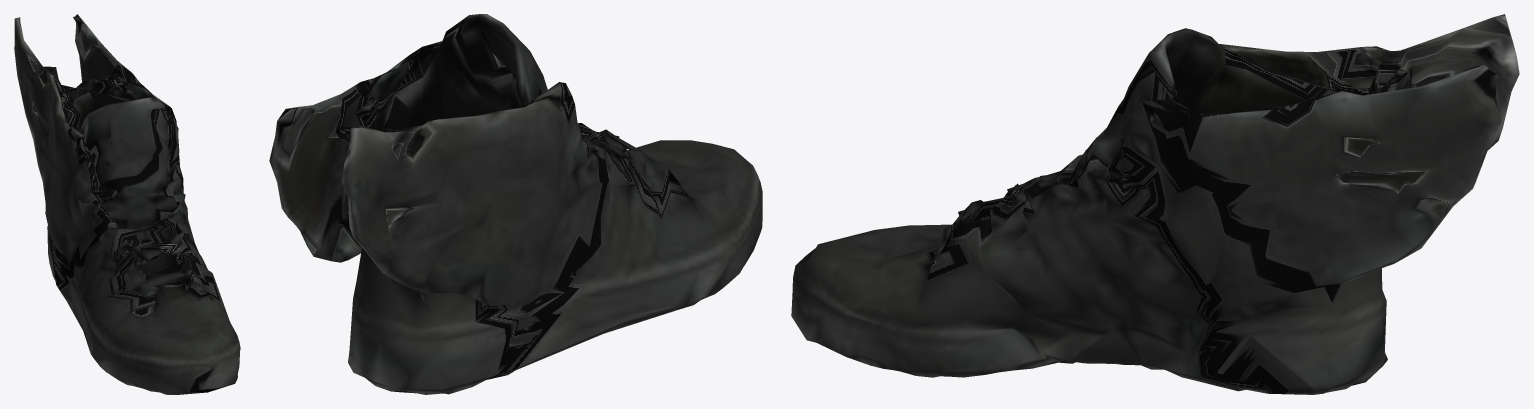
Rendered from gso_js_wings_20_black_flag.glb.
3 renders of one model, left to right at view 1: azimuth 30°, elevation 25°; view 2: azimuth 150°, elevation 25°; view 3: azimuth 270°, elevation 25°, orthographic. The views are drawn at different scales.
Visible parts, largest first — view 1: z-up-to-y-up; view 2: z-up-to-y-up; view 3: z-up-to-y-up.
Boxes of the visible parts, <box> form: z-up-to-y-up: <box>14,14,240,394</box>; z-up-to-y-up: <box>269,14,762,394</box>; z-up-to-y-up: <box>791,14,1519,394</box>.
Bounding box in the file's own units: 0.1273 × 0.1827 × 0.3531.
Materials: 1 (1 with a texture image).
